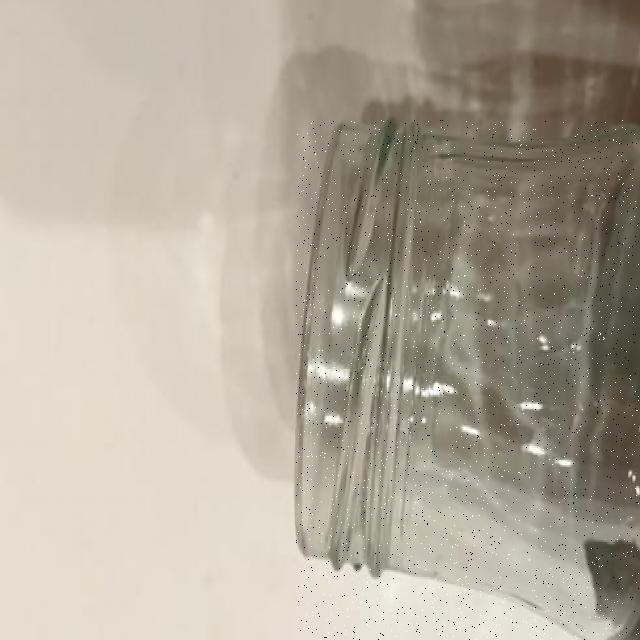glass: (297, 120, 640, 640)
